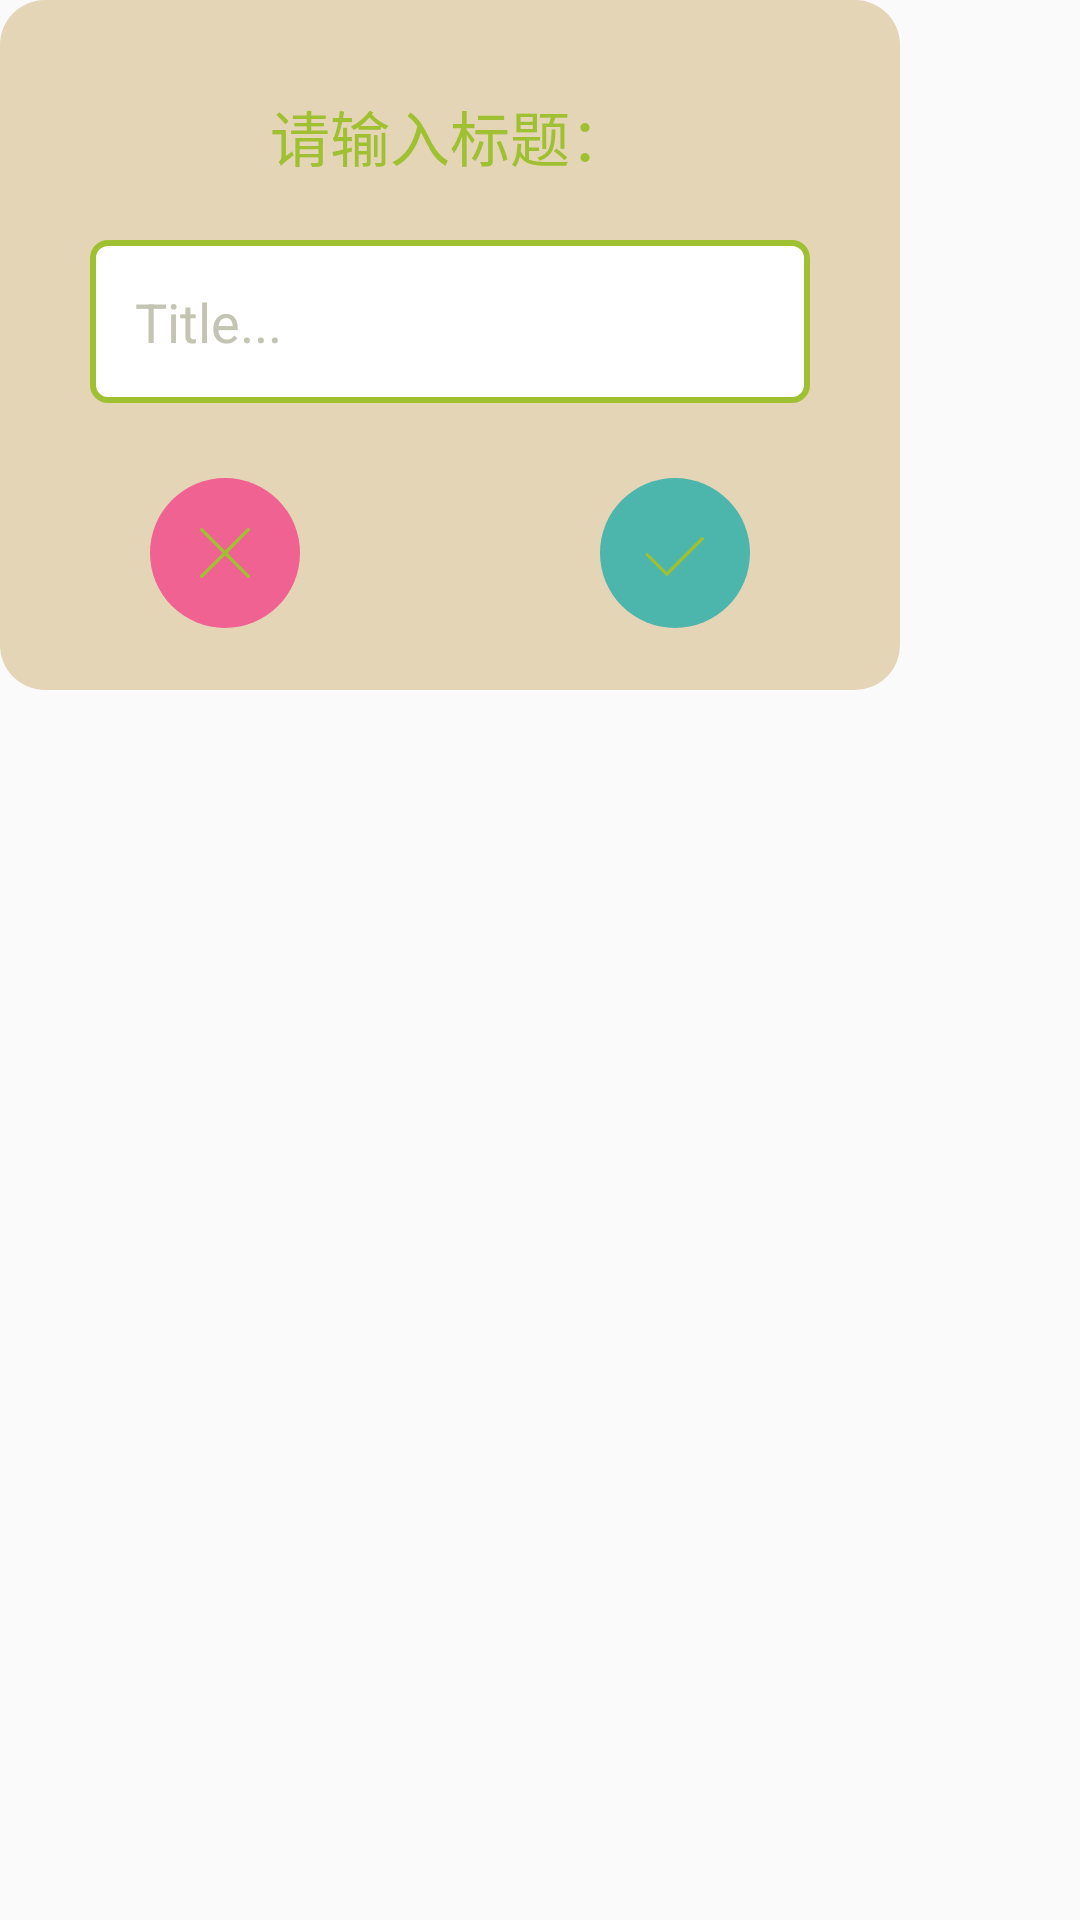

Icons on this 1080px×1920px Android screen, each with its box as (x1=x1, y1=y1, x2=x2, y2=y2):
cancel: (x1=150, y1=478, x2=300, y2=628)
submit: (x1=600, y1=478, x2=750, y2=628)
